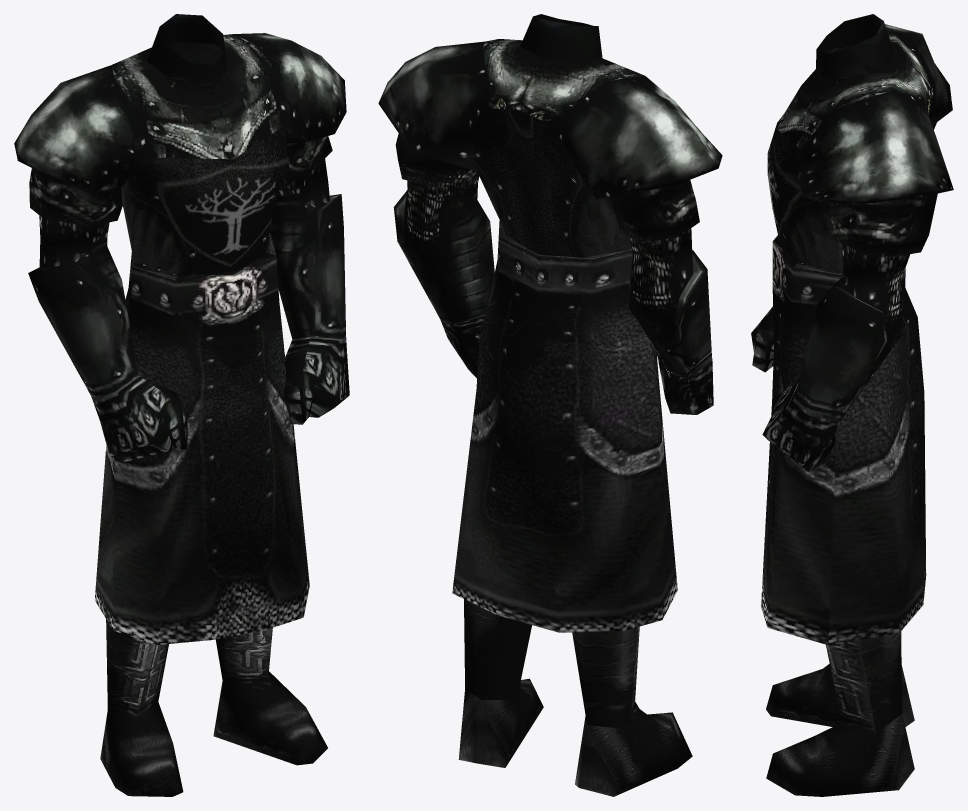
File: PANCERZ_VENDERA_1.glb
The picture shows the model from 3 angles, left to right: view 1: azimuth 30°, elevation 25°; view 2: azimuth 150°, elevation 25°; view 3: azimuth 270°, elevation 25°; orthographic projection. The views are drawn at different scales.
Parts seen in each view (by area): view 1: PANCERZ_VENDERA_1; view 2: PANCERZ_VENDERA_1; view 3: PANCERZ_VENDERA_1.
Part boxes in pixels (x1,y1,x2,y2): PANCERZ_VENDERA_1: (14,14,349,796); PANCERZ_VENDERA_1: (378,14,722,796); PANCERZ_VENDERA_1: (751,14,953,796).
Bounding box in the file's own units: 0.7844 × 1.7 × 0.4273.
Materials: 3 (3 with a texture image).
